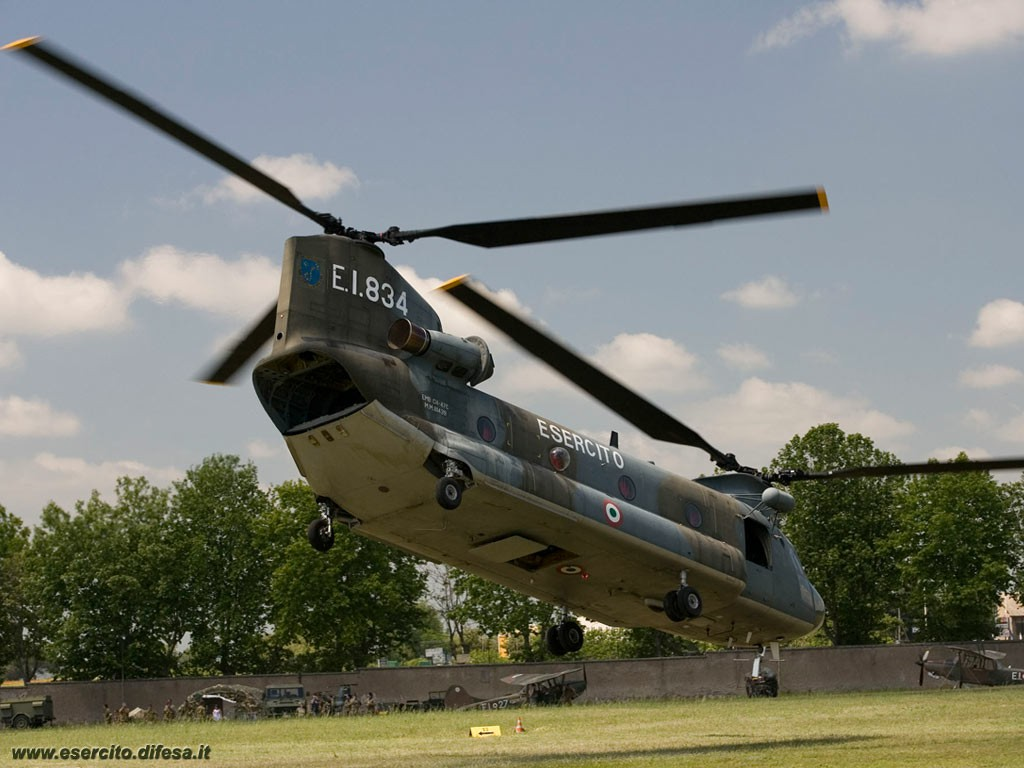chinook: (124, 128, 922, 700)
